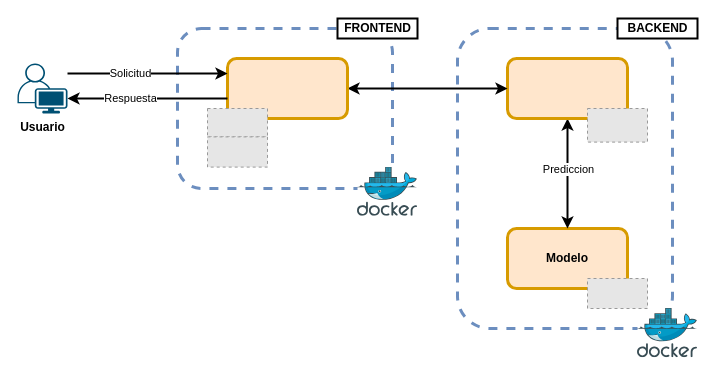
Image size: 715x375. Some labels were removed from this diagram. Grey dashed boxes stand in for pictures. Each missing label, with the centre of its shape:
"API REST" goes at [567,88].
"HTTP Server" goes at [287,88].
